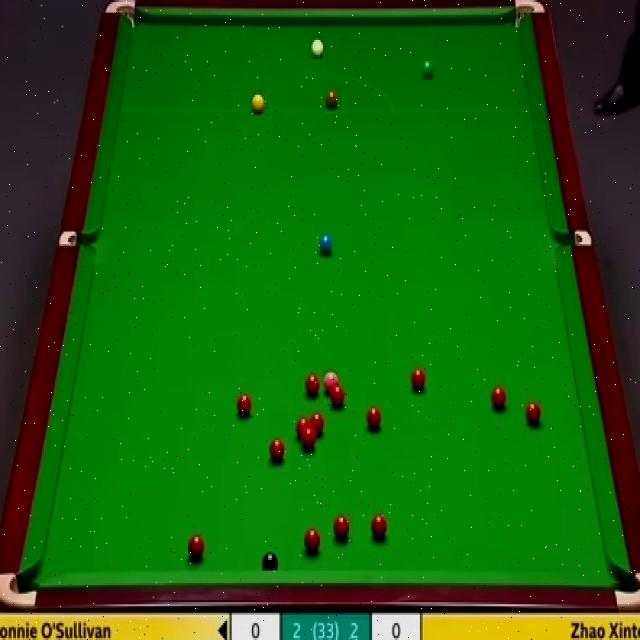black-ball: (262, 552, 278, 569)
blue-ball: (318, 232, 332, 255)
brown-ball: (324, 89, 339, 110)
green-ball: (422, 56, 433, 77)
pink-ball: (323, 369, 339, 395)
red-ball: (488, 384, 508, 411), (525, 402, 543, 429), (187, 533, 205, 559), (333, 515, 350, 542), (235, 391, 253, 416), (301, 426, 317, 454), (303, 527, 320, 553), (268, 436, 284, 463), (308, 411, 325, 435), (371, 514, 388, 538), (305, 373, 320, 399), (367, 405, 382, 429), (411, 368, 427, 390), (297, 417, 311, 441), (331, 387, 345, 407)
white-ball: (311, 38, 324, 57)
yellow-ball: (249, 93, 265, 114)
